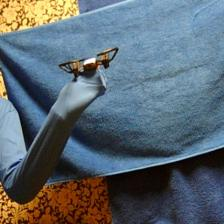drone: (58, 46, 120, 84)
